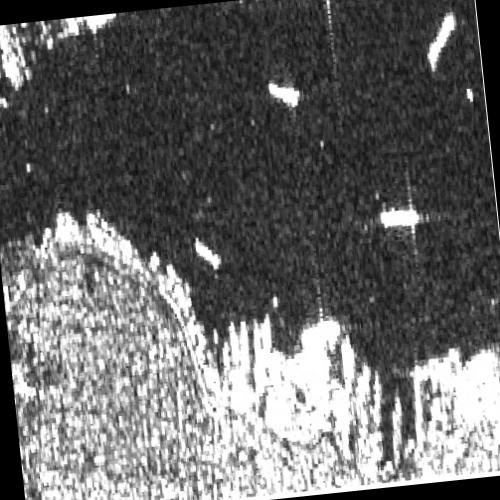ship: (427, 12, 455, 70), (251, 317, 267, 396), (267, 79, 300, 108), (194, 239, 222, 271), (259, 309, 273, 370), (238, 319, 250, 386), (378, 209, 420, 228), (227, 321, 241, 378), (220, 338, 232, 386)
